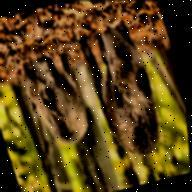boar: (66, 7, 181, 173), (2, 43, 101, 161)
